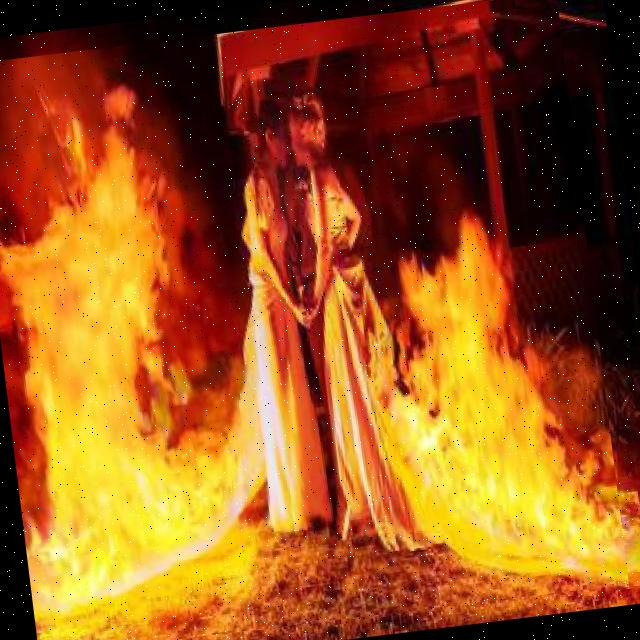fire: (0, 0, 628, 640)
